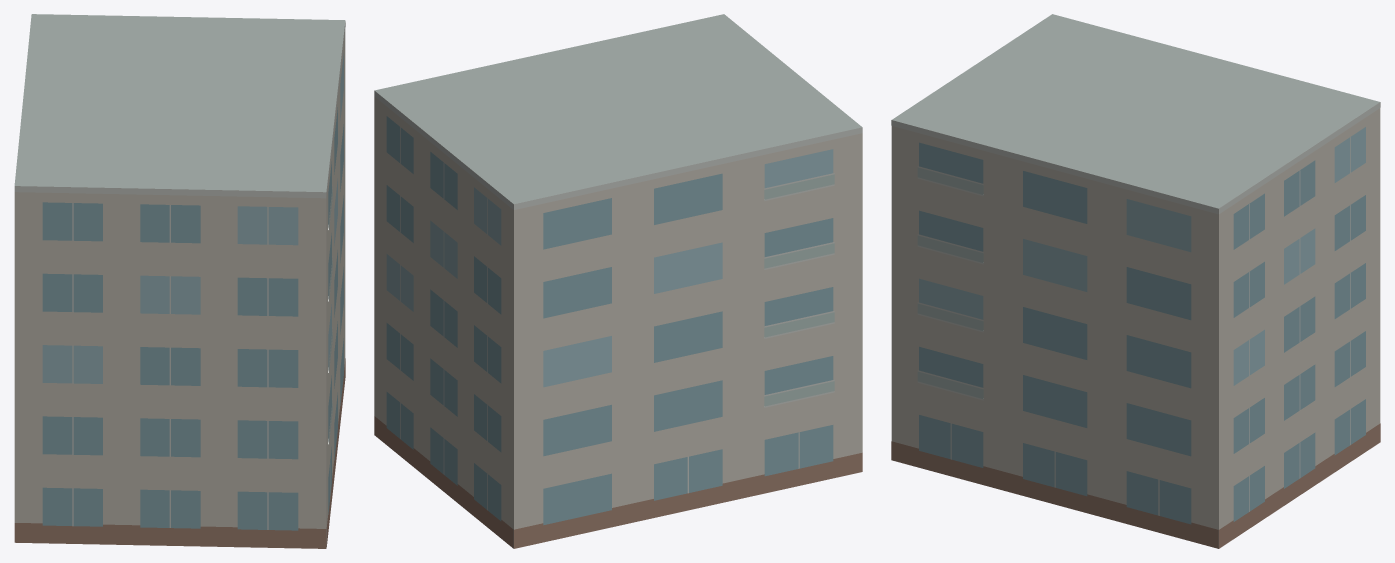
File: survey-upis-32901454.glb
The picture shows the model from 3 angles, left to right: view 1: azimuth 30°, elevation 25°; view 2: azimuth 150°, elevation 25°; view 3: azimuth 270°, elevation 25°; orthographic projection. The views are drawn at different scales.
Parts seen in each view (by area): view 1: survey-upis-32901454.tmp; view 2: survey-upis-32901454.tmp; view 3: survey-upis-32901454.tmp.
Part boxes in pixels (bbox=[...]): survey-upis-32901454.tmp: bbox=[14, 14, 345, 548]; survey-upis-32901454.tmp: bbox=[374, 14, 862, 548]; survey-upis-32901454.tmp: bbox=[891, 14, 1380, 548].
Size of the model in its own units: 17.6 by 14.34 by 18.68.
